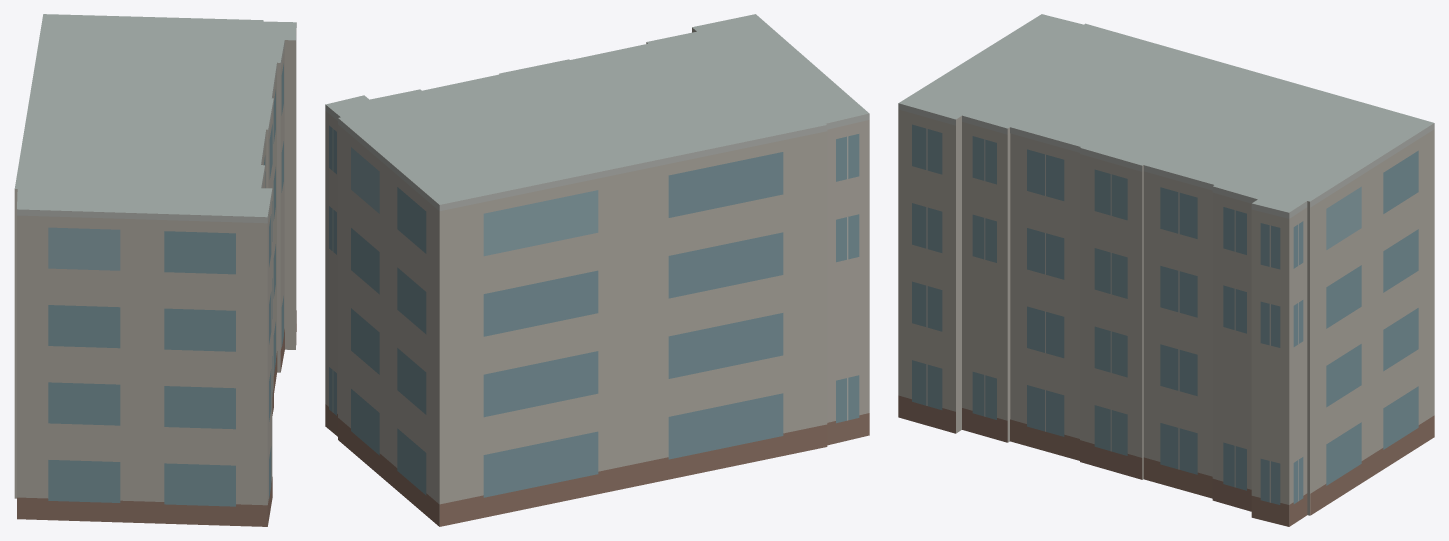
File: survey-upis-32748855.glb
3 renders of one model, left to right at view 1: azimuth 30°, elevation 25°; view 2: azimuth 150°, elevation 25°; view 3: azimuth 270°, elevation 25°, orthographic. The views are drawn at different scales.
Visible parts, largest first — view 1: survey-upis-32748855.tmp; view 2: survey-upis-32748855.tmp; view 3: survey-upis-32748855.tmp.
Boxes of the visible parts, x1,y1,x2,y2 form: survey-upis-32748855.tmp: [14, 14, 296, 526]; survey-upis-32748855.tmp: [325, 14, 869, 526]; survey-upis-32748855.tmp: [898, 14, 1434, 526].
Size of the model in its own units: 16.9 by 12.45 by 19.27.
